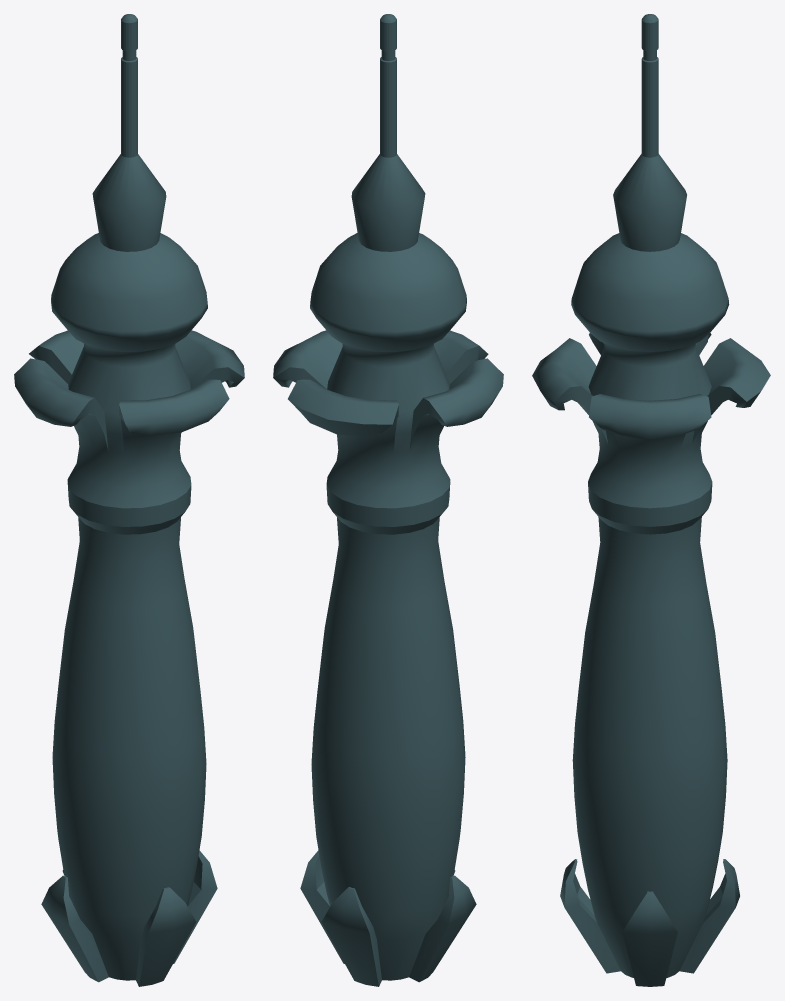
File: FortressPillar.fbx
3 renders of one model, left to right at view 1: azimuth 30°, elevation 25°; view 2: azimuth 150°, elevation 25°; view 3: azimuth 270°, elevation 25°, orthographic.
Visible parts, largest first — view 1: Fortress_Pillar; view 2: Fortress_Pillar; view 3: Fortress_Pillar.
Part boxes in pixels (x1=…): Fortress_Pillar: x1=14, y1=14, x2=244, y2=986; Fortress_Pillar: x1=273, y1=14, x2=503, y2=986; Fortress_Pillar: x1=532, y1=14, x2=770, y2=986.
Bounding box in the file's own units: 0.807 × 3.55 × 0.8055.
